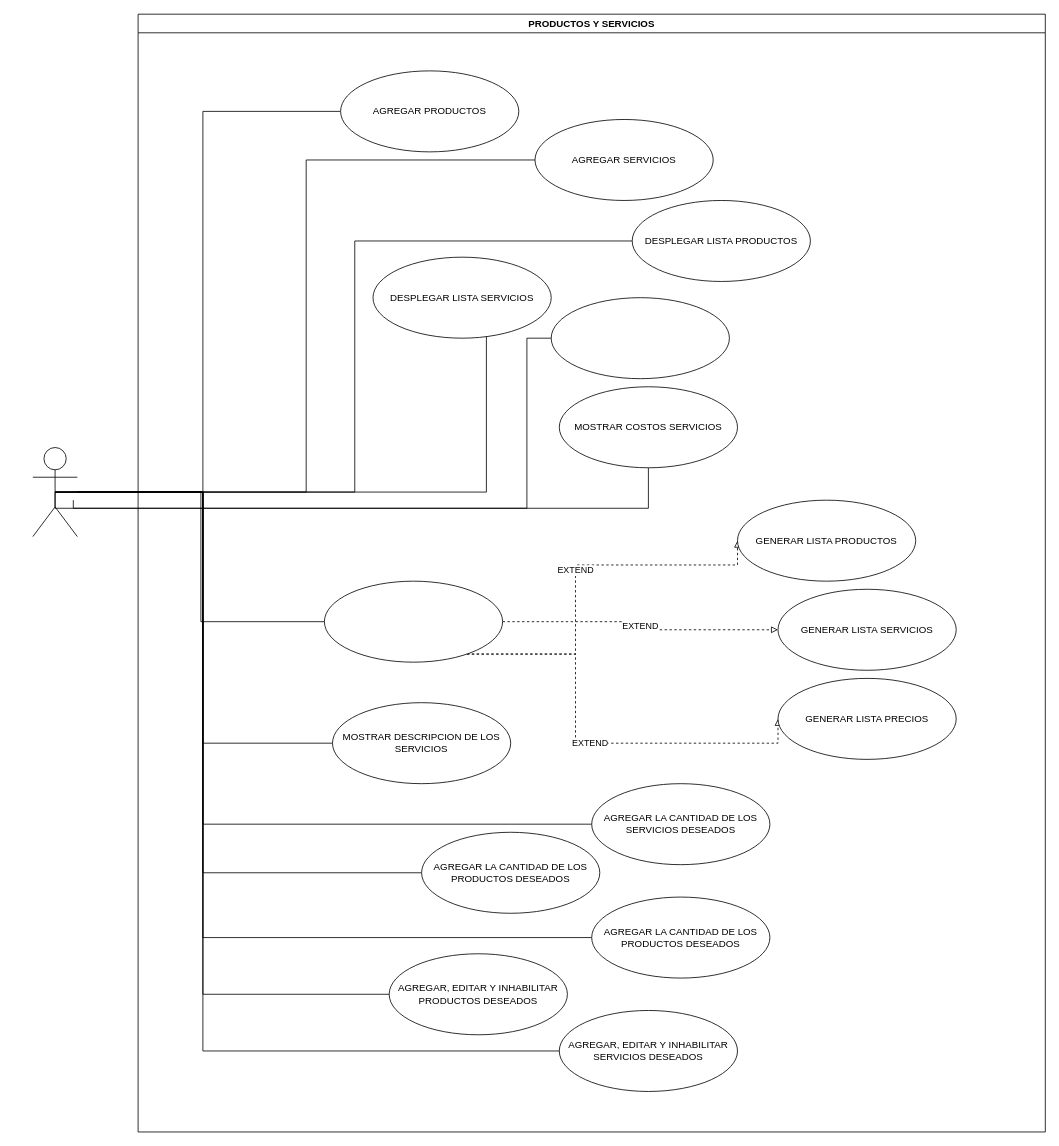
This 1059x1146 diagram has some shape labels left out. The centre of each missing label's shape, as x and y in pixels:
"ADMINISTRADOR" belongs at (54,492).
"GENERAR INFORMES" belongs at (413,621).
"MOSTRAR COSTOS PRODUCTOS" belongs at (639,338).
